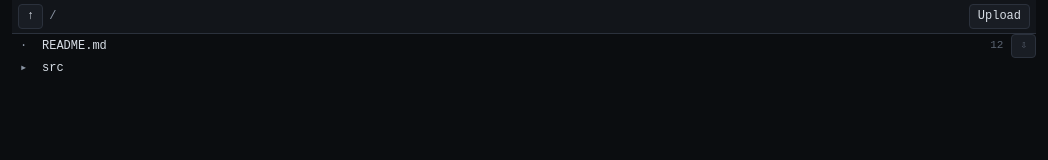
Test: FilesPane upload / open dispatch (spec 8.5) › opens a text file into an editor pane and a directory in place
The image size is (1048, 160).
Click the button with test id "file-entry" showing "· README.md 12" at (74, 46), box [12, 36, 1011, 57]
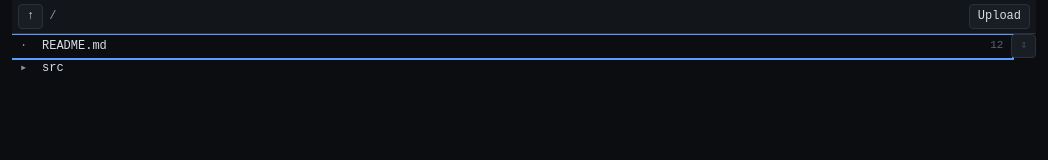
Note: A directory navigates the same pane rather than opening a new one.
Click the button with test id "file-entry" showing "▸ src" at (24, 68), box [12, 58, 1036, 80]
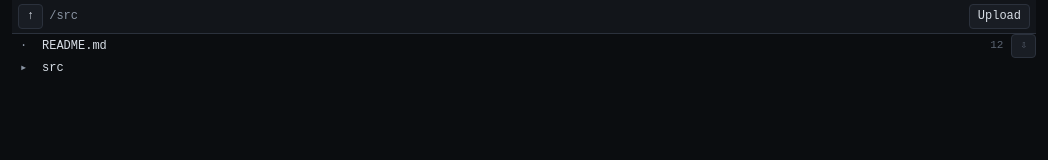
Expected: the text with test id "files-path" reads "/src", [49, 9, 78, 23]
